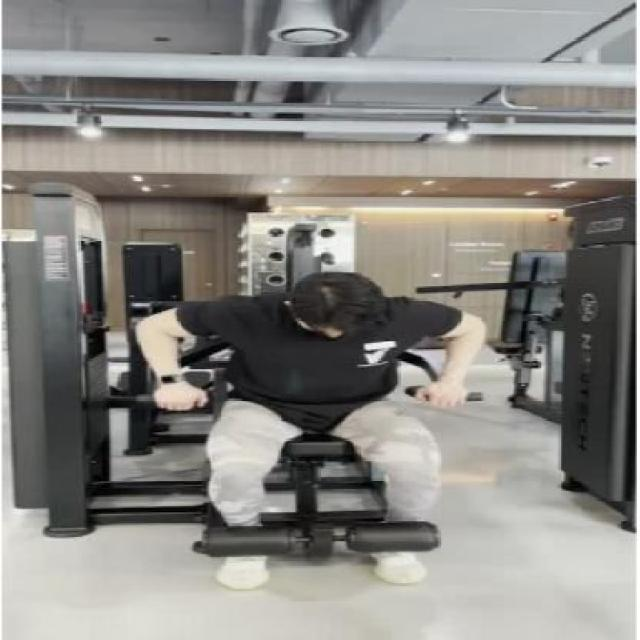seated dip machine: (3, 172, 502, 592)
